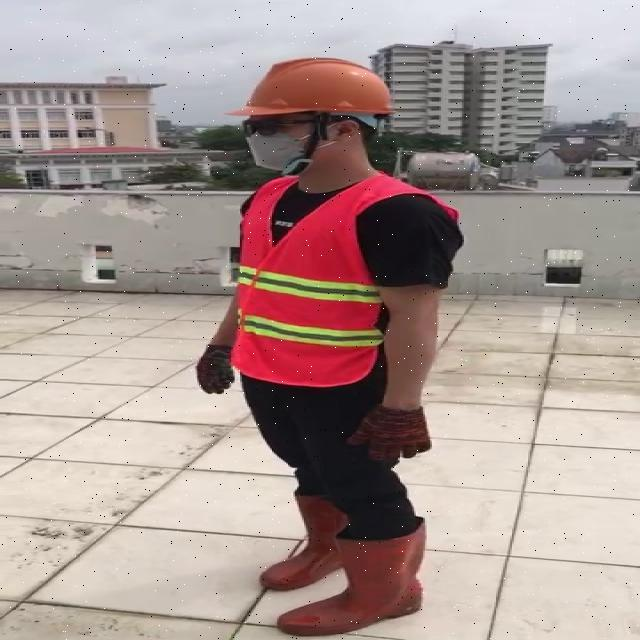Hard_hat: (231, 53, 396, 135)
Vest: (237, 173, 387, 390)
